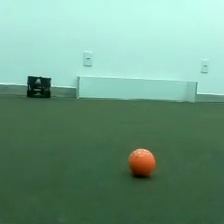ball: (126, 146, 158, 179)
goal: (73, 74, 200, 105)
robot: (25, 74, 52, 99)
